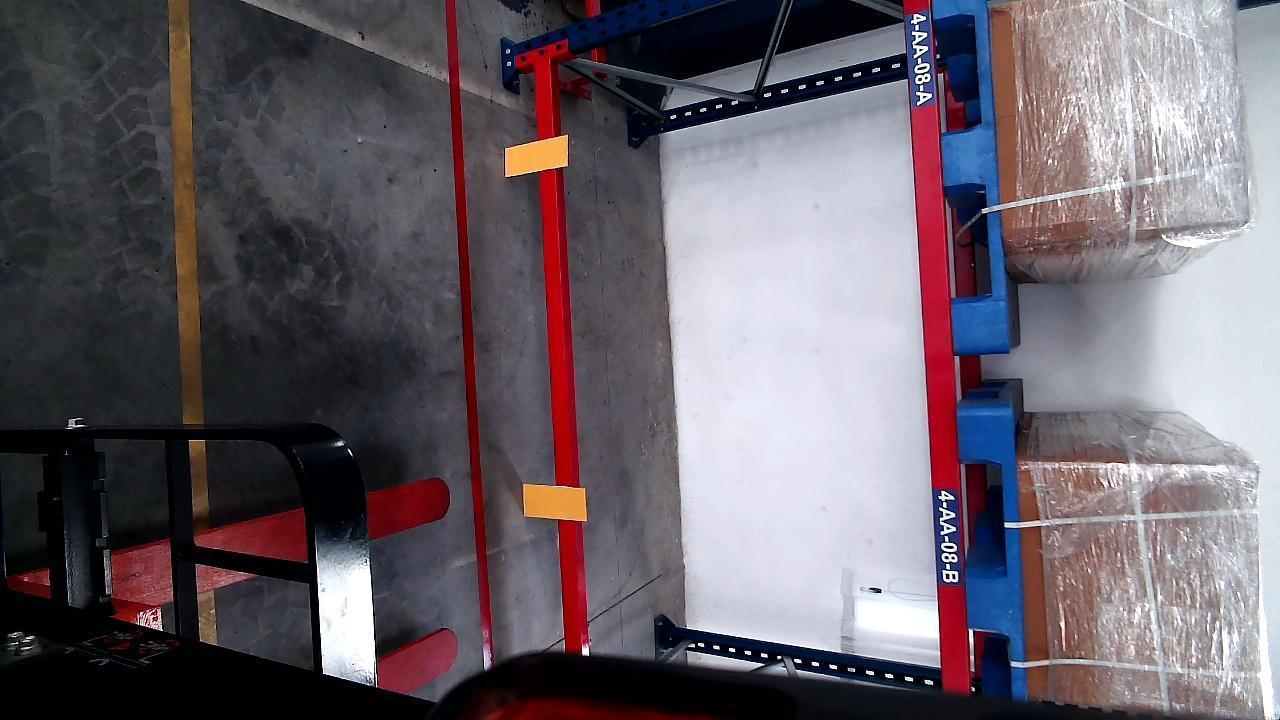h_rack: (903, 0, 973, 694), (538, 53, 583, 654)
orange_strip: (504, 134, 569, 176), (522, 483, 587, 521)
red_line: (443, 0, 499, 667)
small_pallet: (932, 0, 1008, 349), (961, 410, 1024, 691)
yellow_line: (170, 0, 204, 441)
